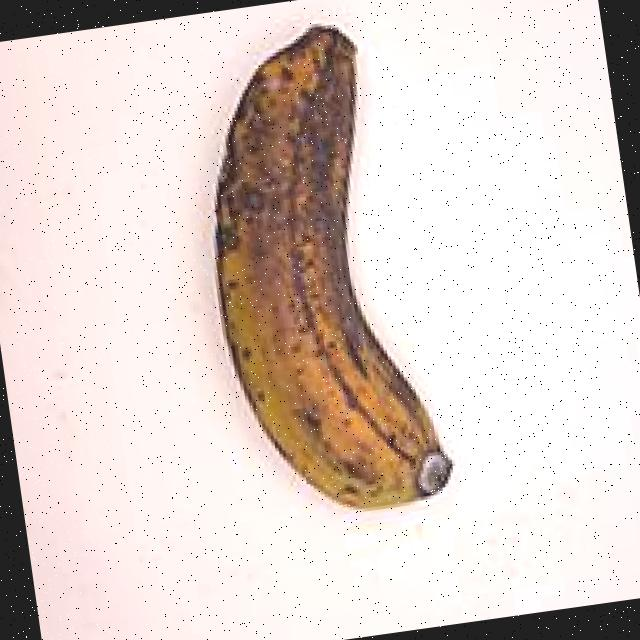Overripe: (130, 0, 504, 557)
